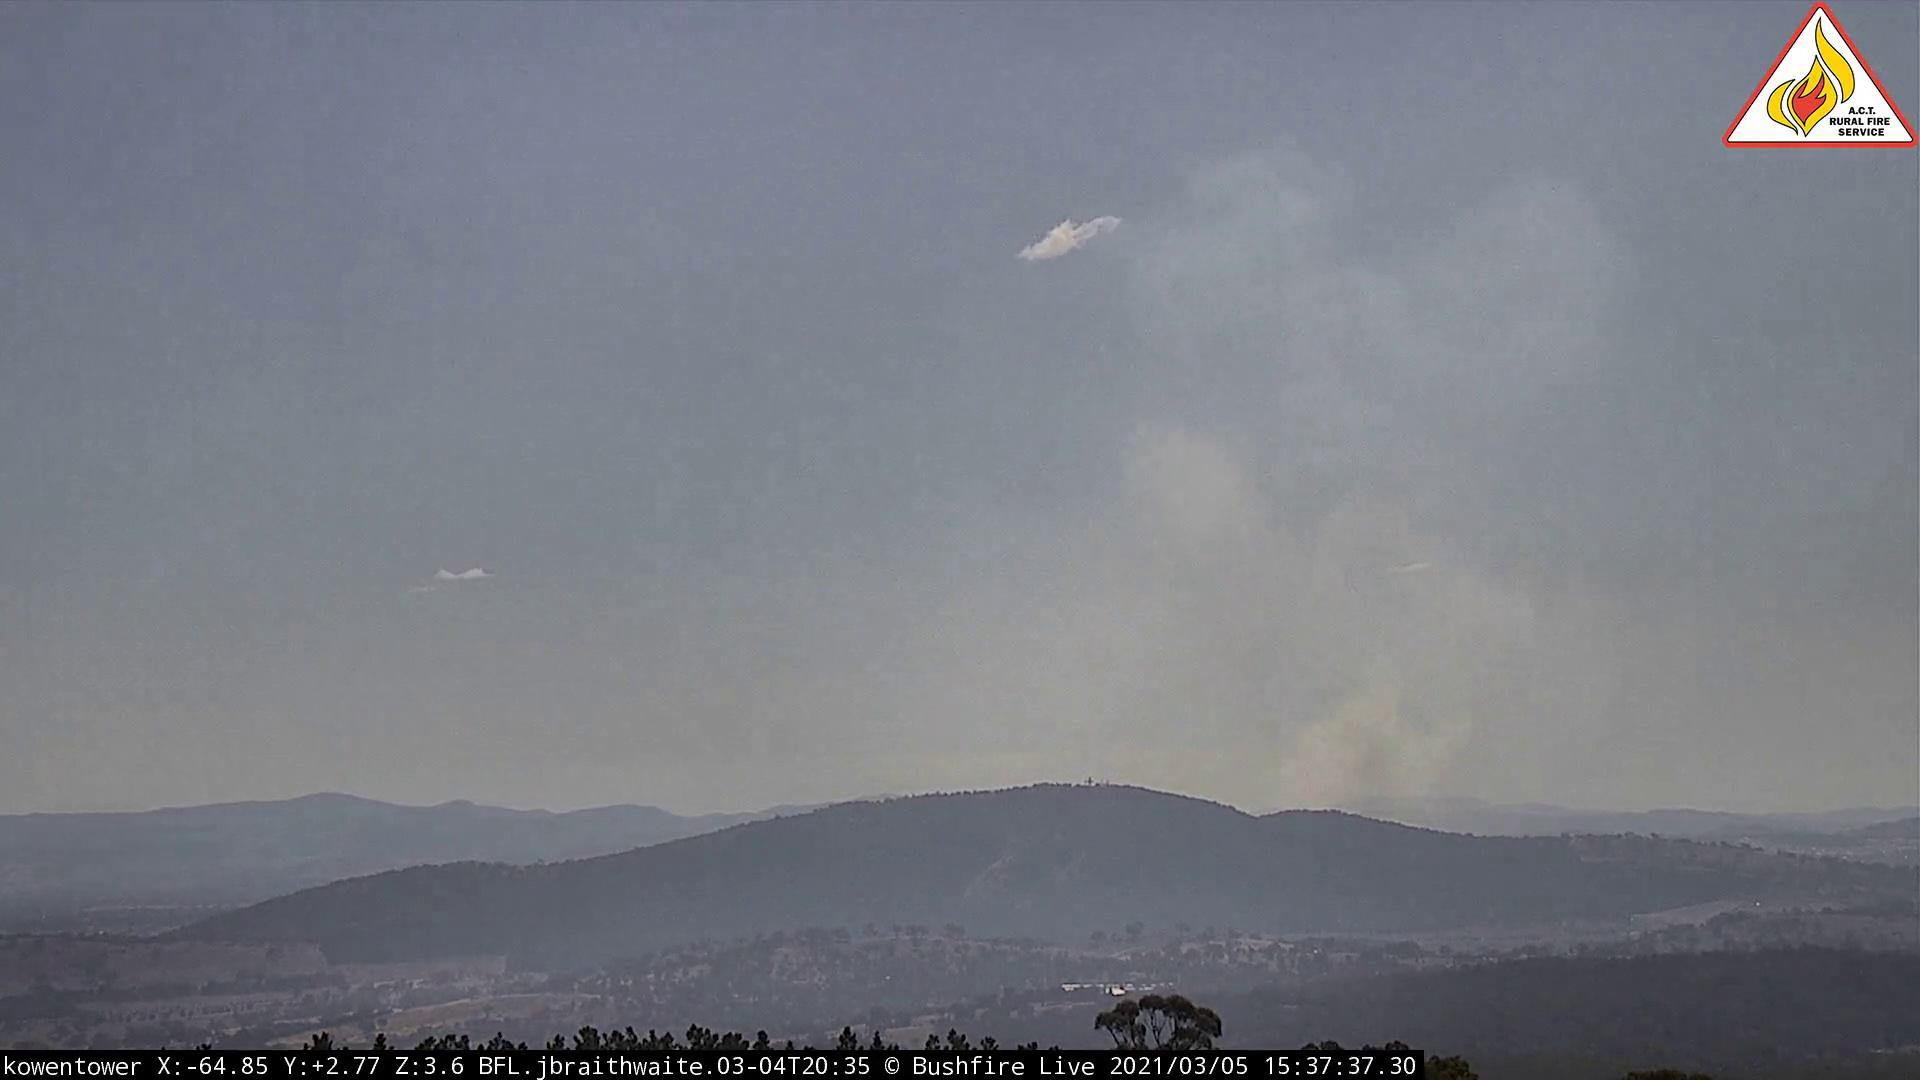Smoke: (793, 142, 1664, 847)
